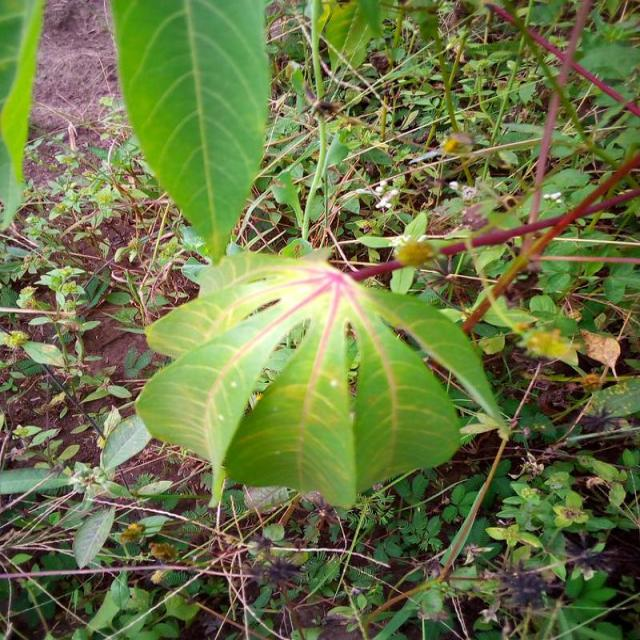cassava leaf: (134, 246, 506, 510), (107, 0, 270, 262)
